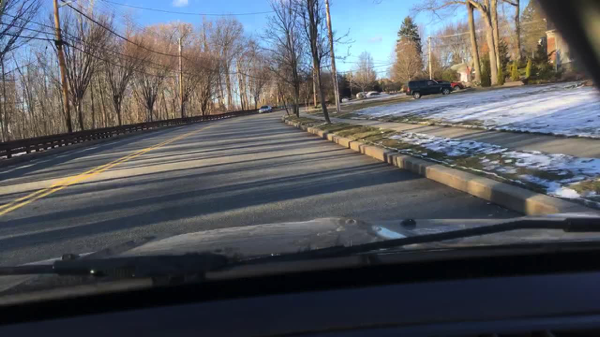car: (406, 80, 453, 99), (432, 81, 463, 91), (259, 105, 272, 113), (355, 91, 367, 99), (342, 96, 351, 103), (366, 92, 380, 96)
